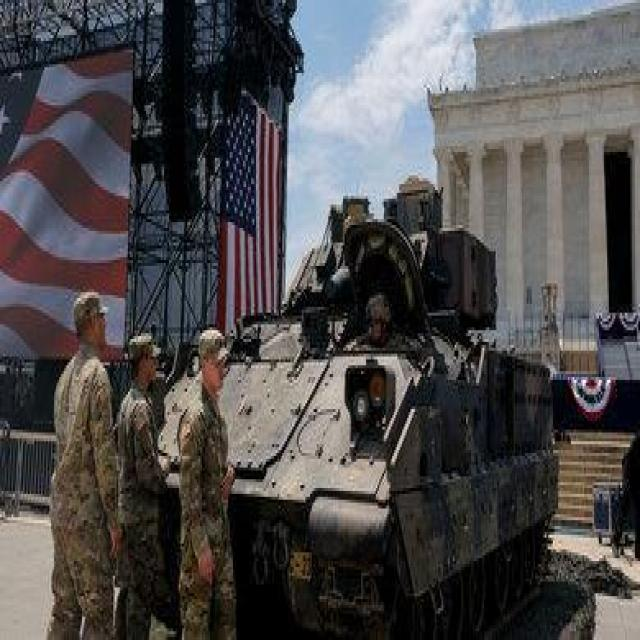Tanks: (148, 250, 559, 633)
